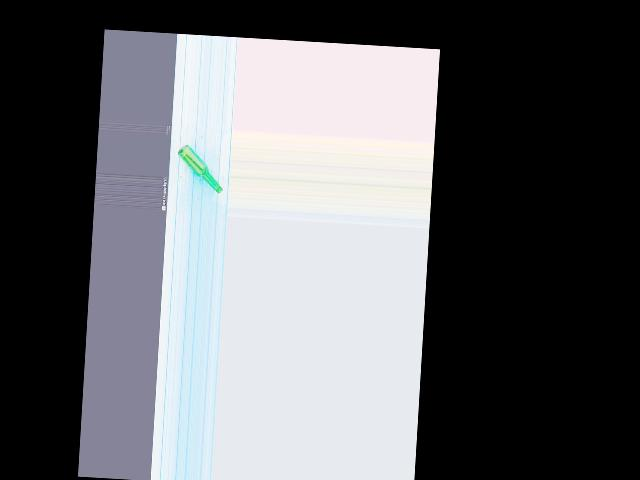beer: (174, 143, 225, 193)
